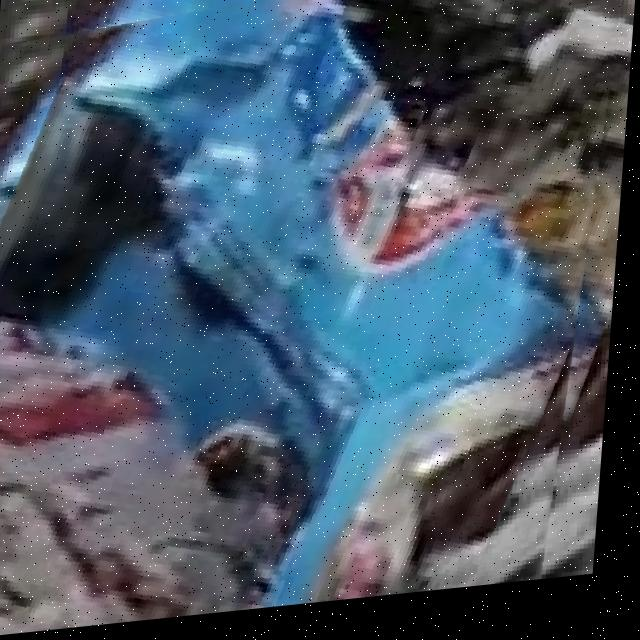can: (0, 0, 587, 621)
